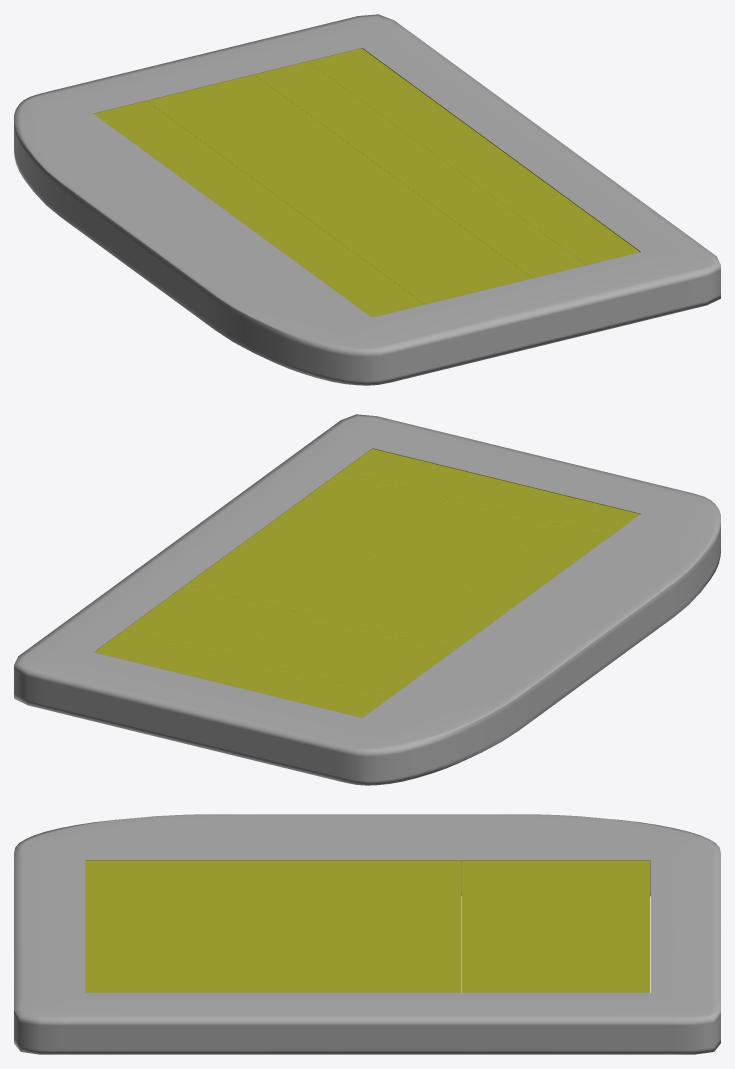
Rendered from Stage_V2.fbx.
The picture shows the model from 3 angles, top to bottom: view 1: azimuth 30°, elevation 25°; view 2: azimuth 150°, elevation 25°; view 3: azimuth 270°, elevation 25°; orthographic projection.
Parts seen in each view (by area): view 1: Stage_Base, Platforms_V2; view 2: Stage_Base, Platforms_V2; view 3: Stage_Base, Platforms_V2.
Boxes of the visible parts, box(x1,y1,x2,y2) form: Stage_Base: box(14, 14, 720, 385); Platforms_V2: box(94, 48, 639, 317); Stage_Base: box(14, 414, 720, 785); Platforms_V2: box(94, 449, 640, 717); Stage_Base: box(14, 814, 720, 1054); Platforms_V2: box(85, 860, 649, 992).
Bounding box in the file's own units: 729 × 60 × 1057.
